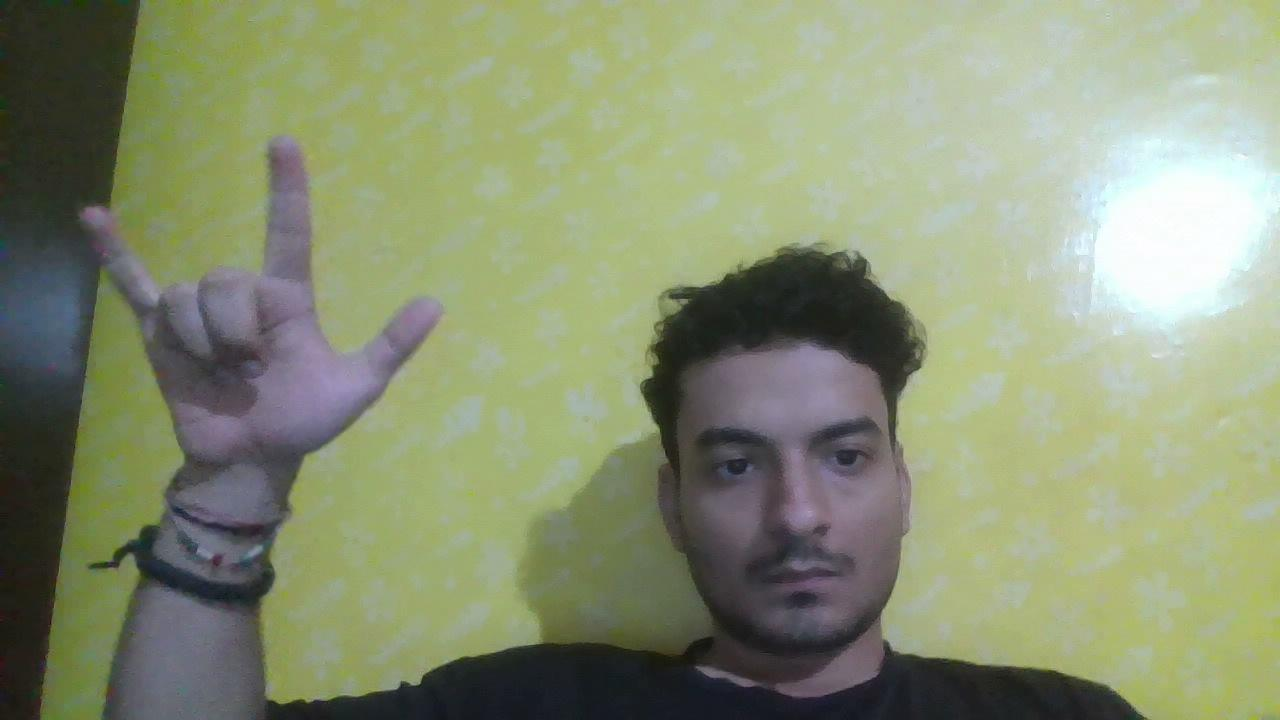Loveyou: (24, 189, 451, 481)
